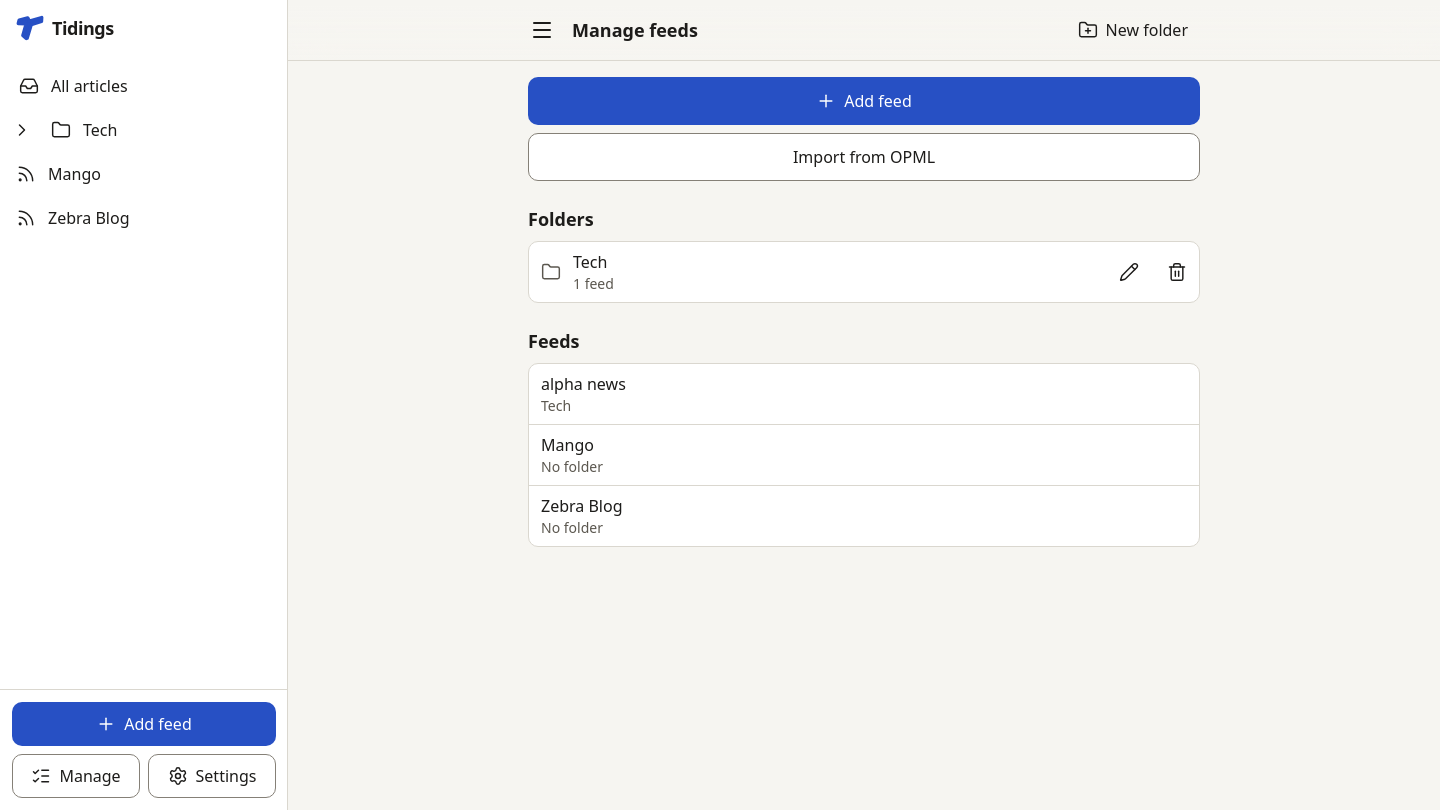
Scenario: AC1: create a folder › it appears in the manage list and the drawer, sorted case-insensitively
Expected: the heading "Folders" is shown, [528,207,594,231]
Click the button "New folder": (1133, 30) [1066,8,1200,52]
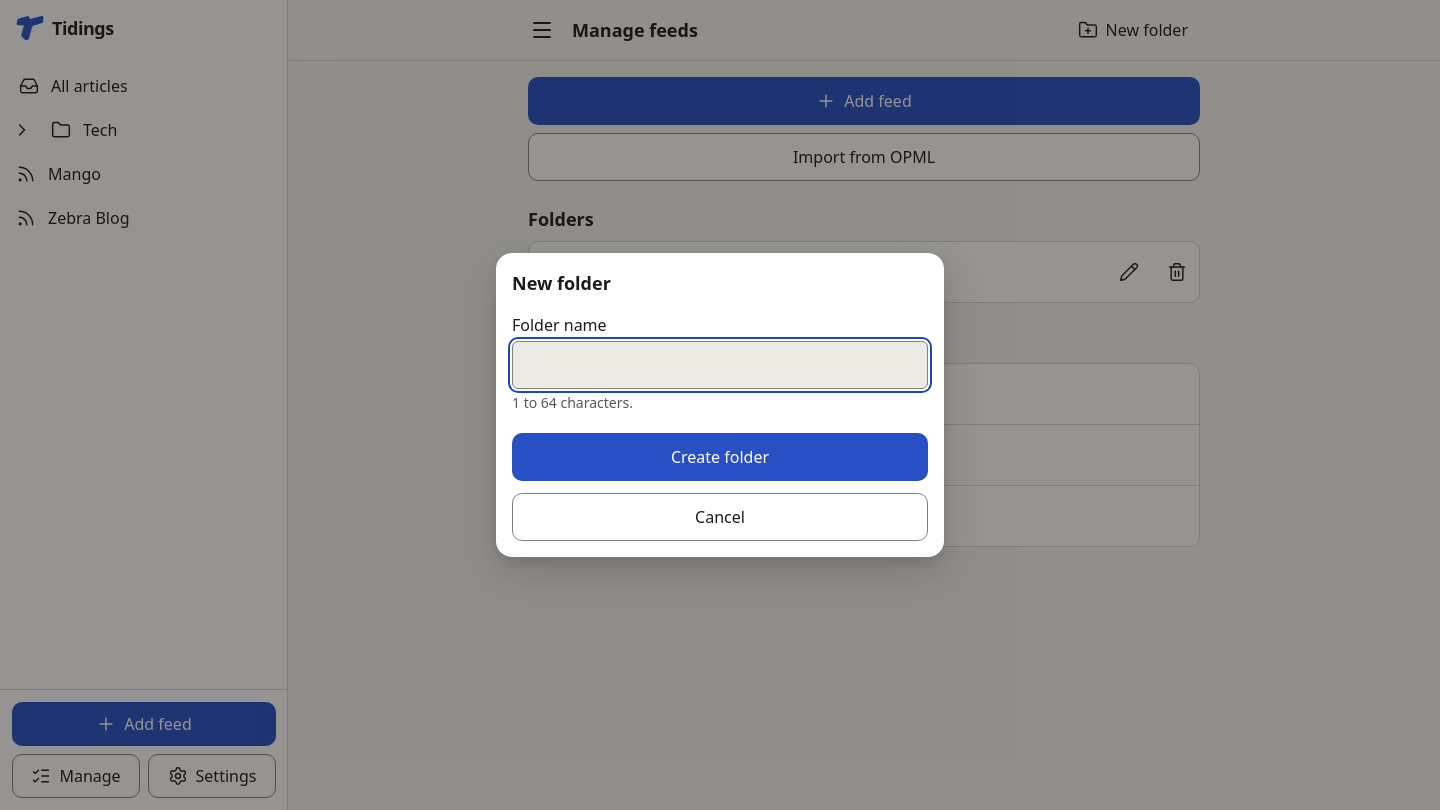
In the field labelled "Folder name": (720, 365) [512,341,928,389], type "apps"
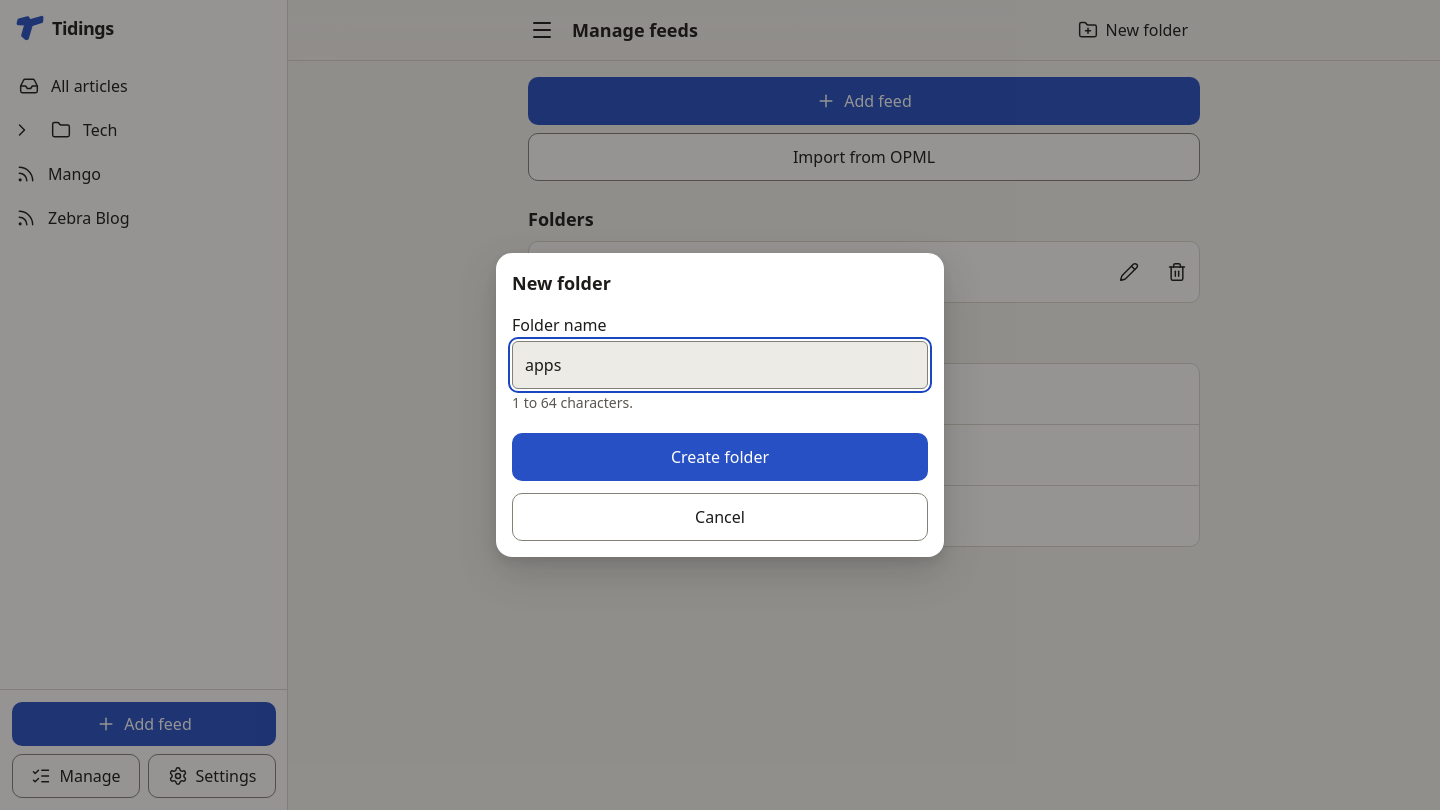
Click the button "Create folder": (720, 457) [512,433,928,481]
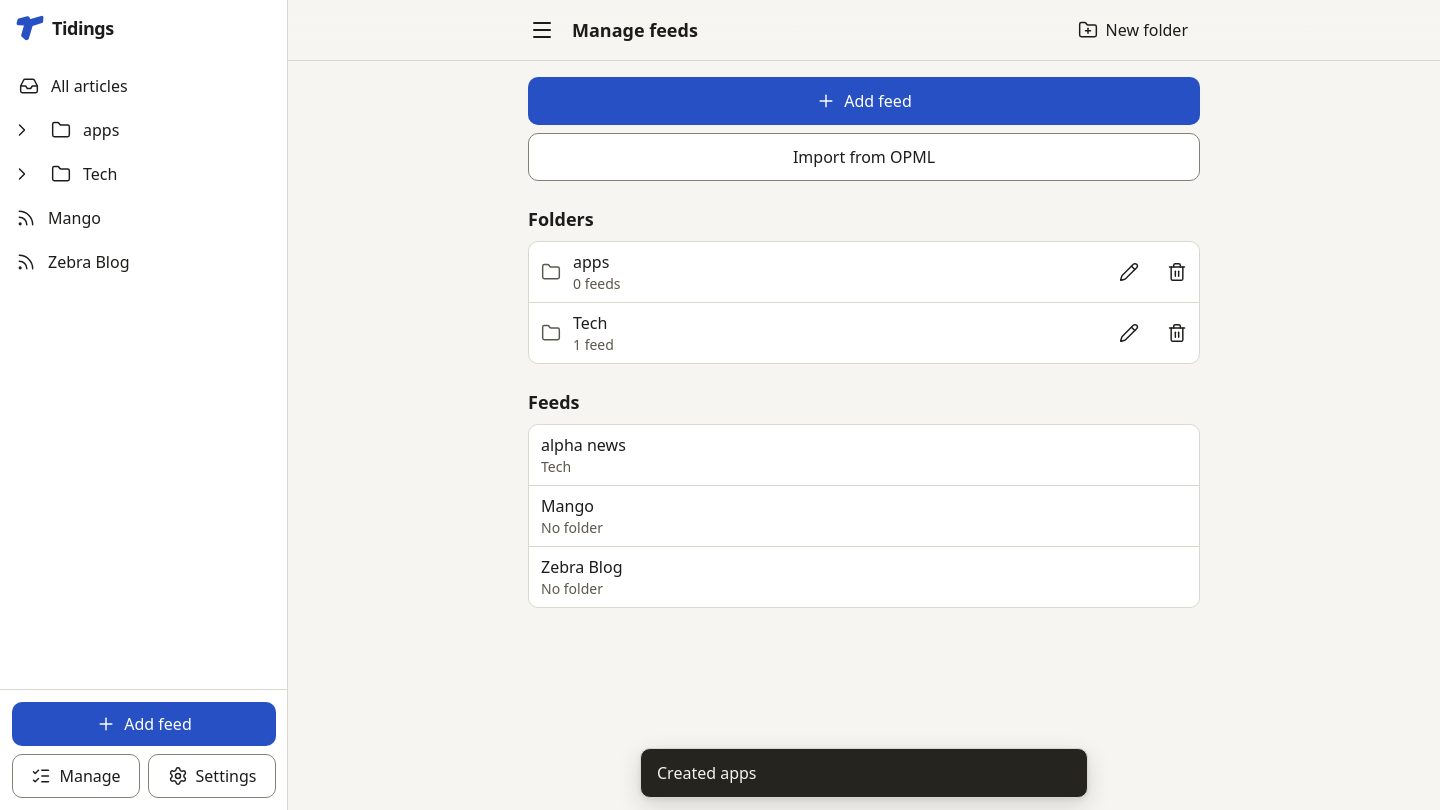
Result: the text "apps" below "Folders" is shown at [573,251,609,273]
Result: the dialog is gone
